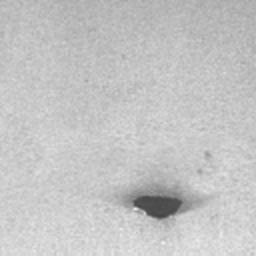Iron sheet ash: (133, 196, 183, 219)
